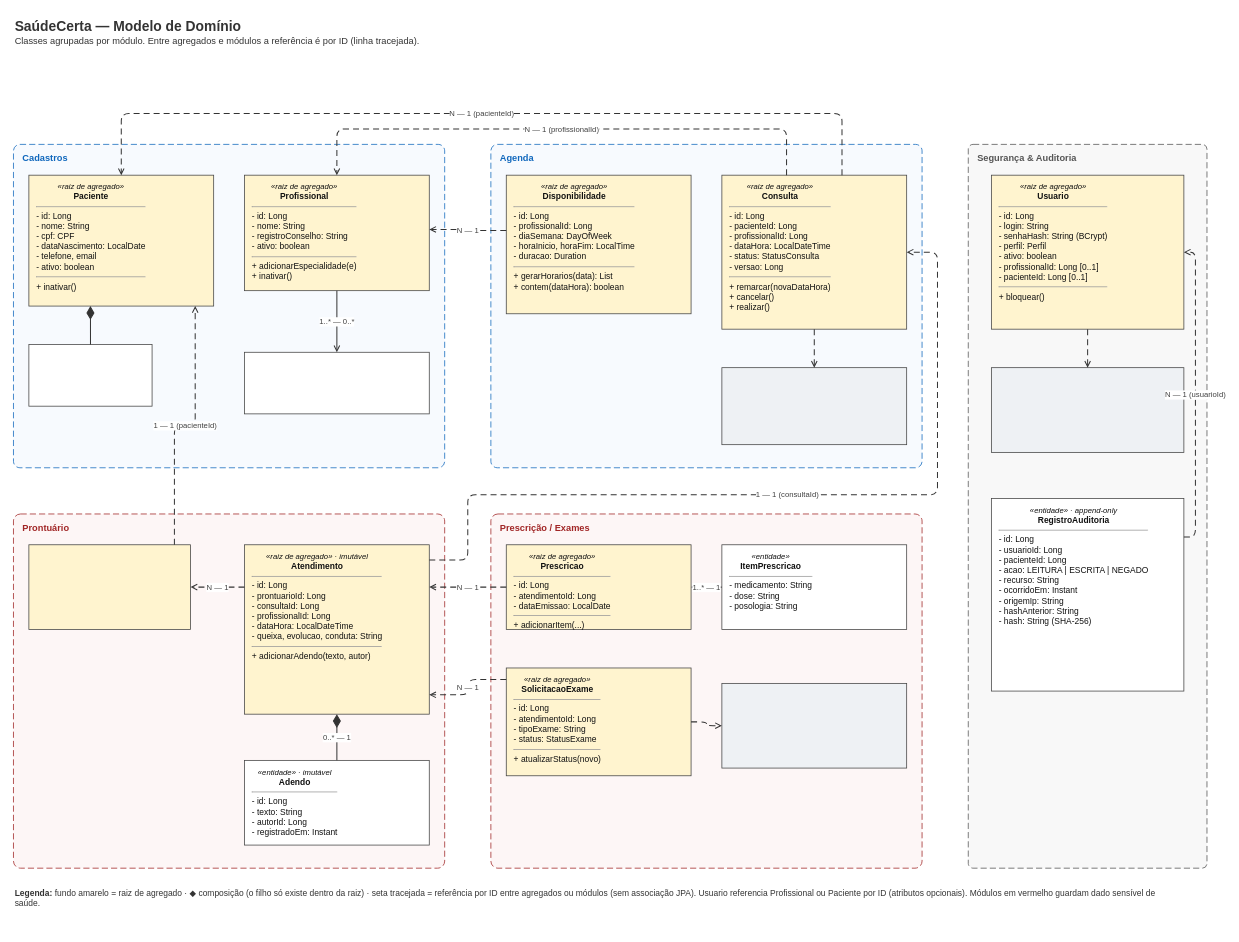
The diagram is 1239 pixels wide and 942 high, and some of its shapes have lost their labels. The centre of each missing label's shape, as x and y in pixels:
"«entidade» Especialidade - id: Long - nome: String" belongs at pixel 336 383.
"«enumeração» Perfil RECEPCAO PROFISSIONAL PACIENTE ADMIN" belongs at pixel 1087 409.
"«enumeração» StatusConsulta AGENDADA REALIZADA CANCELADA" belongs at pixel 814 406.
"«enumeração» StatusExame SOLICITADO COLETADO RESULTADO_DISPONIVEL CANCELADO" belongs at pixel 814 725.
"«objeto de valor» CPF - numero: String + validar()" belongs at pixel 90 375.
"«raiz de agregado» Prontuario - id: Long - pacienteId: Long - criadoEm: Instant" belongs at pixel 109 586.
